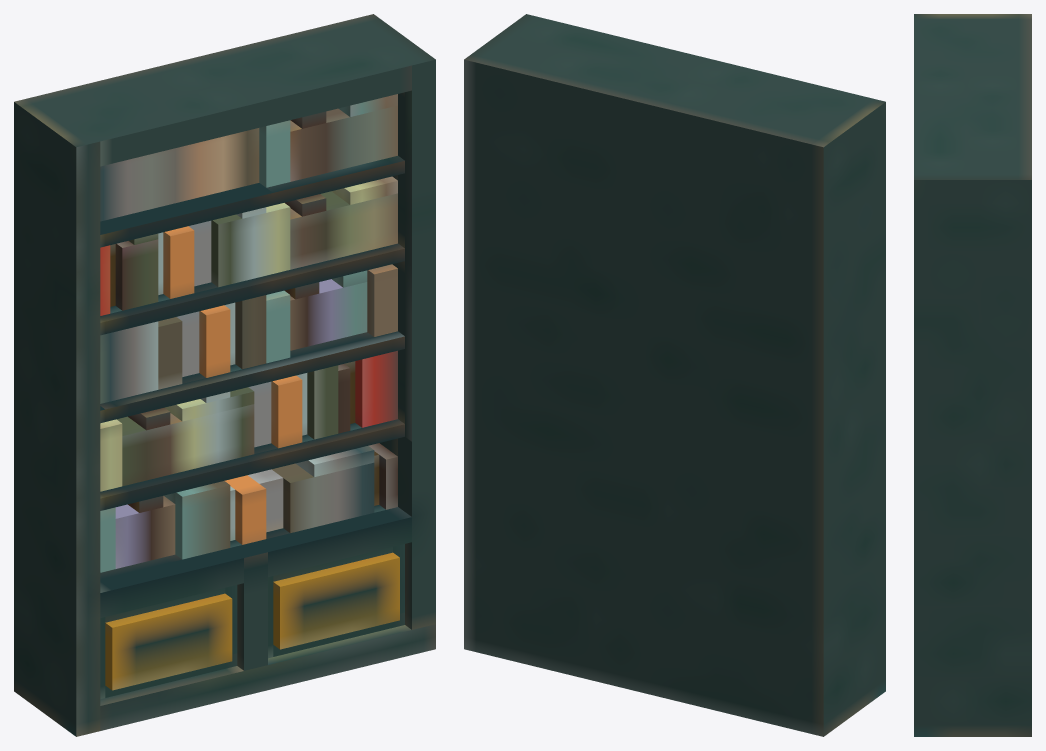
Rendered from BookshelfBlue_02.obj.
3 renders of one model, left to right at view 1: azimuth 30°, elevation 25°; view 2: azimuth 150°, elevation 25°; view 3: azimuth 270°, elevation 25°, orthographic. The views are drawn at different scales.
Parts seen in each view (by area): view 1: BookshelfBlue_02; view 2: BookshelfBlue_02; view 3: BookshelfBlue_02.
Part boxes in pixels (x1=…): BookshelfBlue_02: x1=14, y1=14, x2=435, y2=736; BookshelfBlue_02: x1=464, y1=14, x2=885, y2=736; BookshelfBlue_02: x1=914, y1=14, x2=1031, y2=736.
Size of the model in its own units: 1.5 by 2.35 by 0.45.
